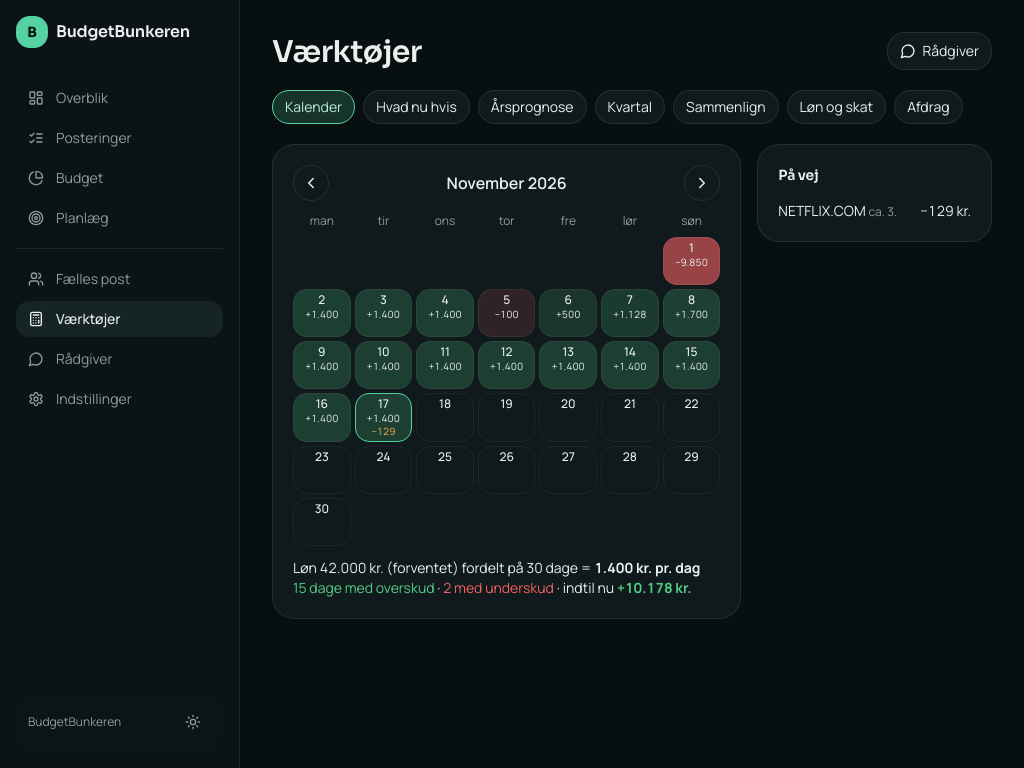
Test case: Ny app › Værktøjer: skat og annuitet regner med det samme
Click the tab "Løn og skat" at (836, 107), box [787,90,886,124]
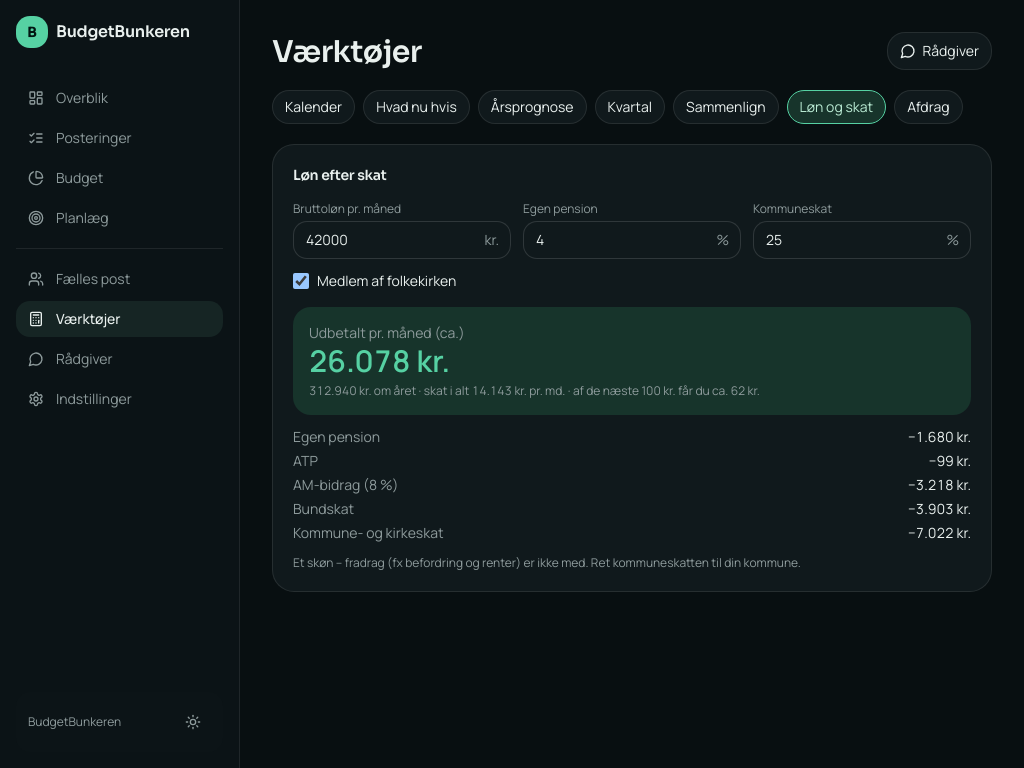
Expected: the text "Udbetalt pr. måned (ca.)" is shown, [309,323,465,342]
Click the tab "Afdrag" at (928, 107), box [894,90,962,124]
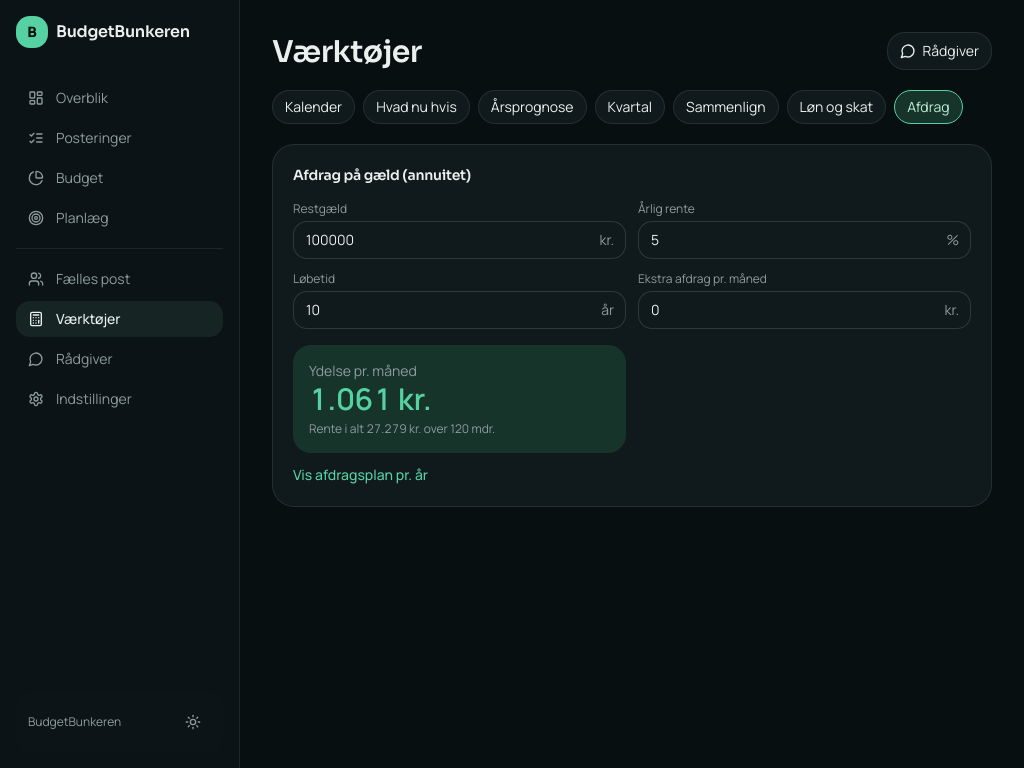
Expected: the text "1.061 kr." is shown, [309,378,432,419]
Replace the text in the field labelled "Ekstra afdrag pr. måned kr." with "500" at (804, 310), box [638,291,971,329]
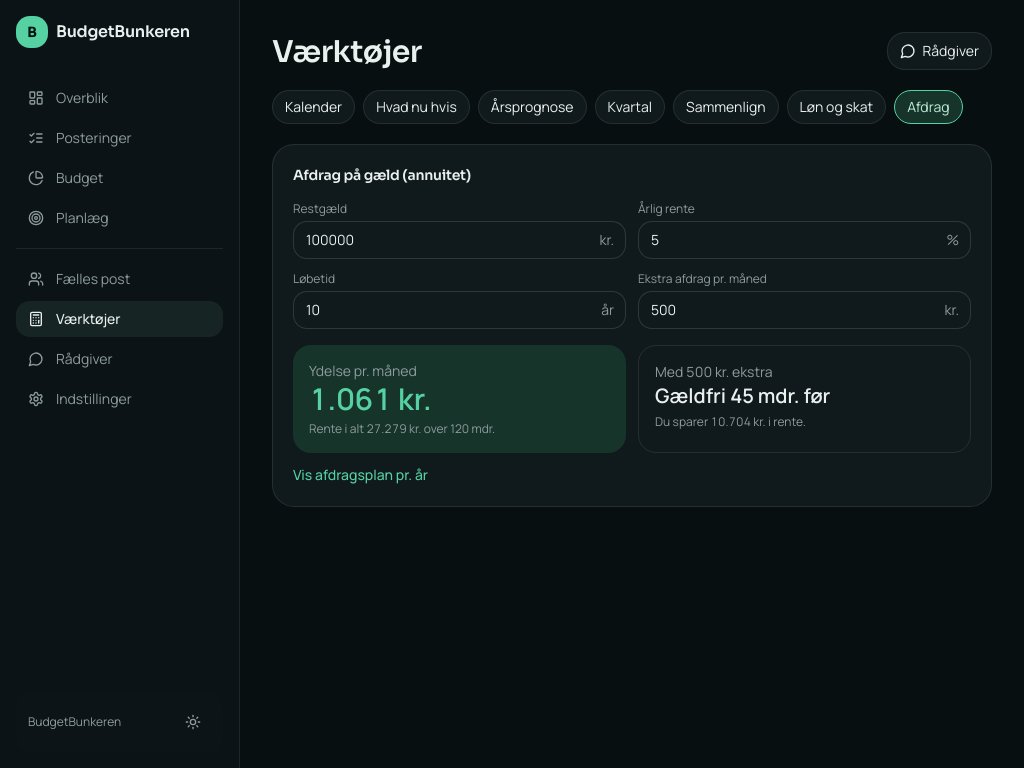
Expected: the text "Gældfri 45 mdr. før" is shown, [655,382,830,409]
